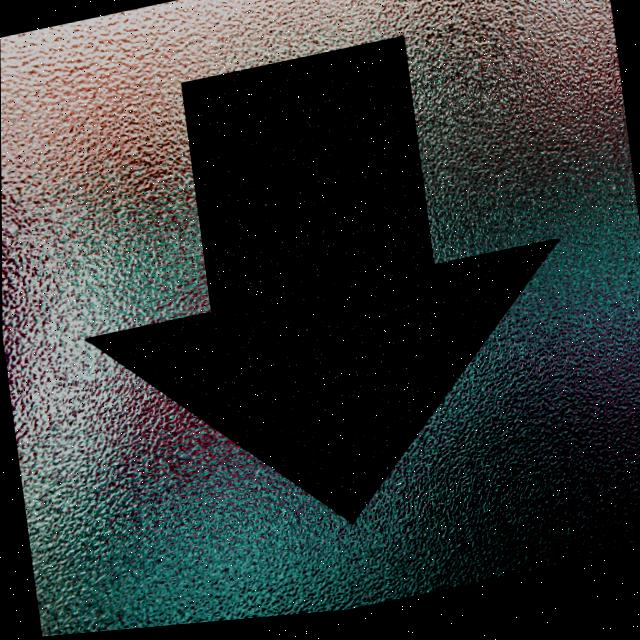DOWN: (89, 44, 556, 527)
